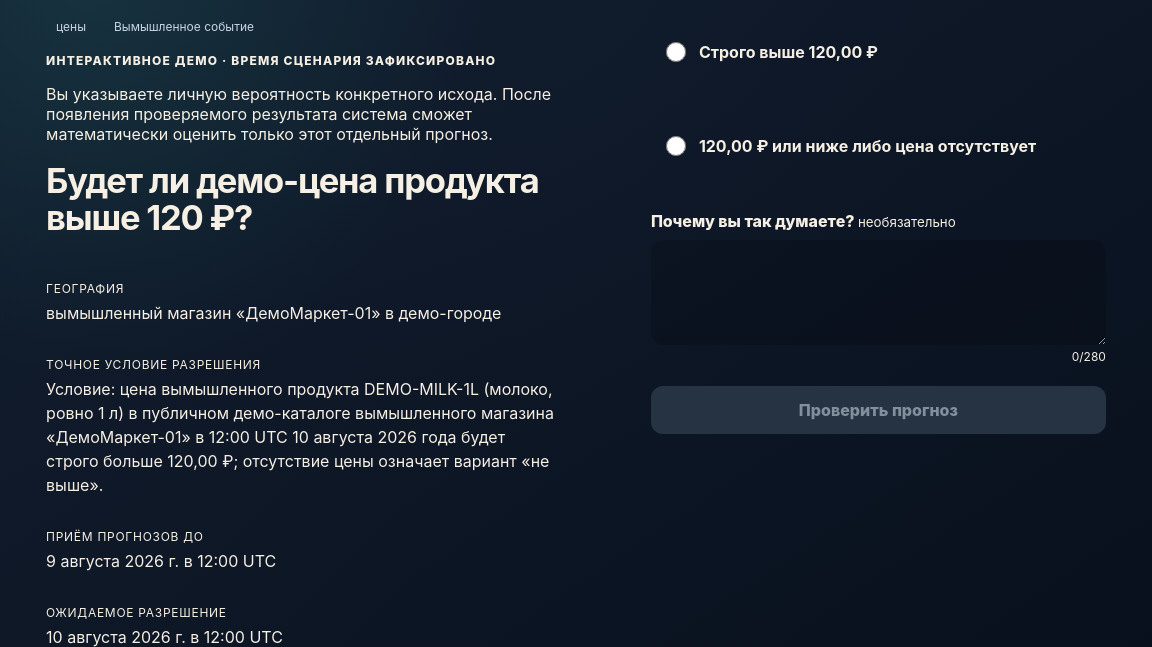
Test: ForecastCard › initializes every probability display to 50 on first outcome selection
Step 1. Click the radio button labelled "Строго выше 120,00 ₽" → [676, 52], box top-left (666, 42), bottom-right (686, 62)
(page scrolled)
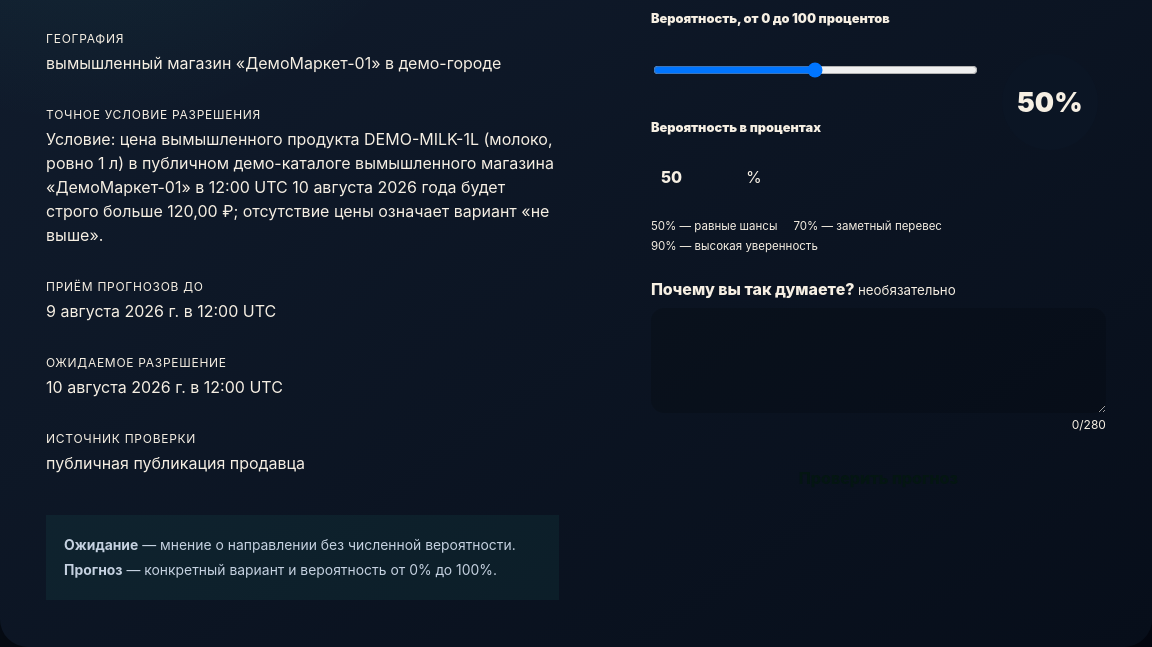
Expected: the slider holds "50", top-left (653, 48), bottom-right (978, 92)
Expected: the number field holds "50", top-left (651, 155), bottom-right (746, 199)
Expected: the text "50%" is shown, top-left (1017, 86), bottom-right (1083, 119)
